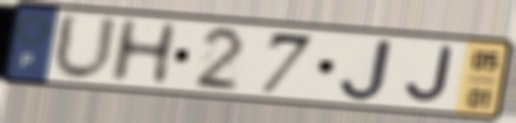2: (191, 25, 248, 95)
7: (258, 30, 318, 96)
H: (105, 17, 183, 86)
J: (336, 37, 397, 103), (402, 44, 455, 107)
U: (49, 10, 122, 85)
